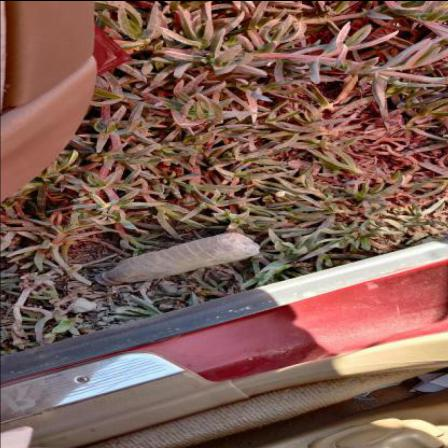Bottle: (95, 233, 262, 287)
Bottle cap: (95, 274, 118, 286)
Other litter: (353, 382, 403, 407)
Paper: (410, 373, 448, 392)
